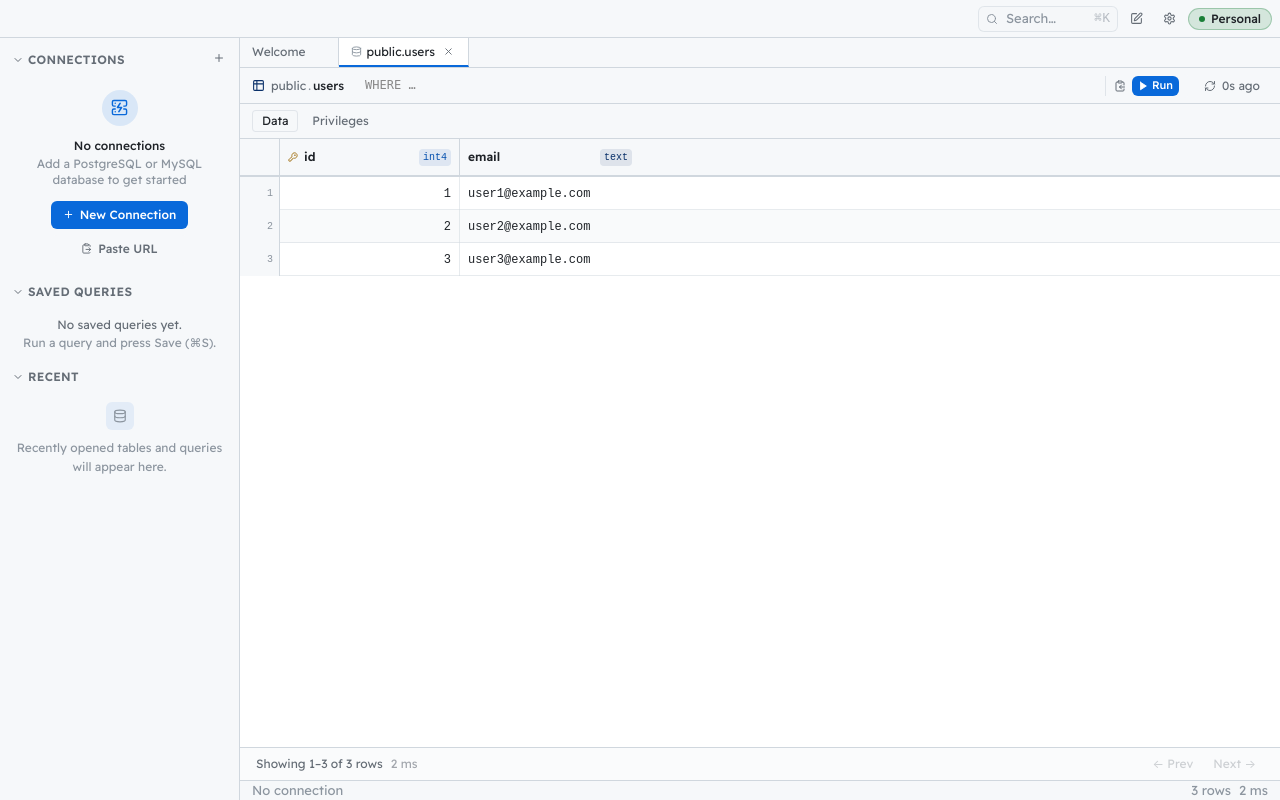
Scenario: the unsaved-edit guard › asks before a navigation that would drop the edit
This screenshot has width=1280, height=800.
expect the table is shown: met, box [240, 139, 1279, 276]
Double-click the cell "user1@example.com" at (529, 194), box [468, 186, 590, 200]
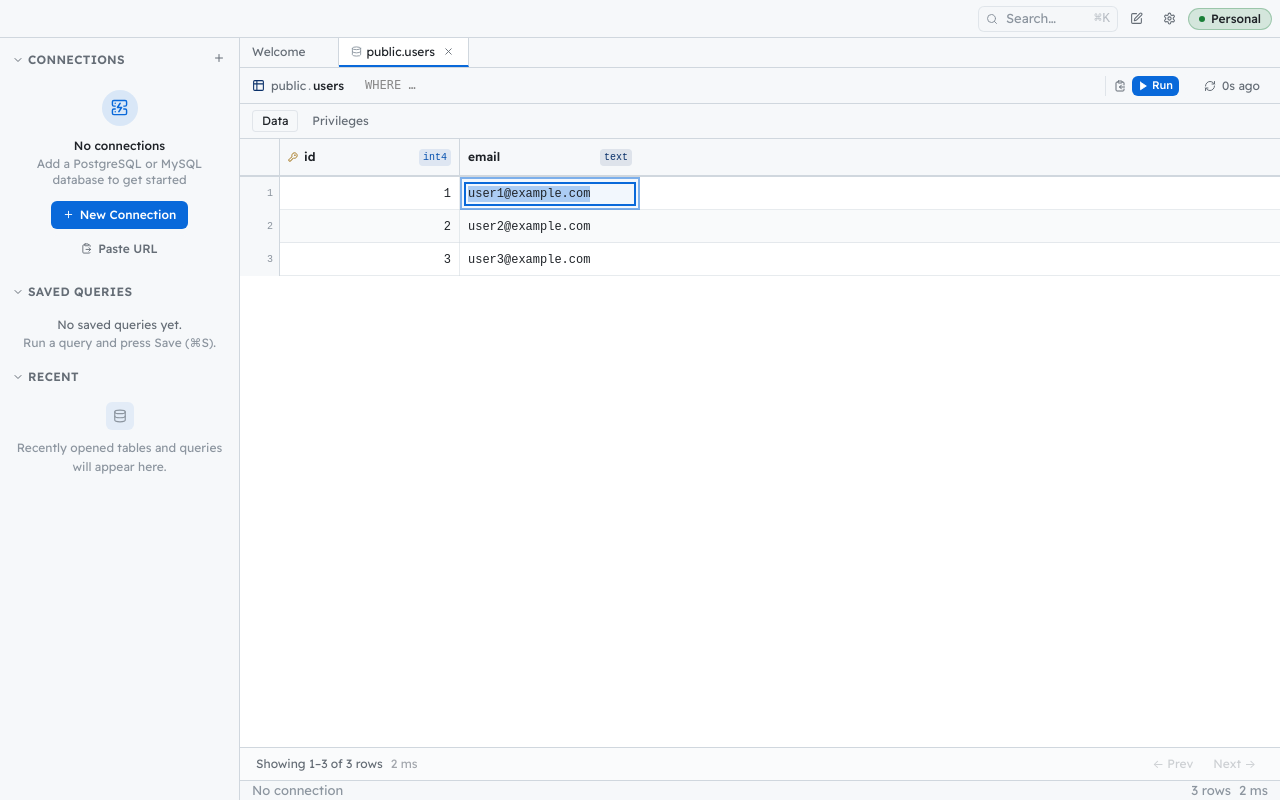
Replace the text in the field named "Edit cell value" with "ada@example.com" at (550, 194), box [468, 186, 632, 202]
Then press Enter
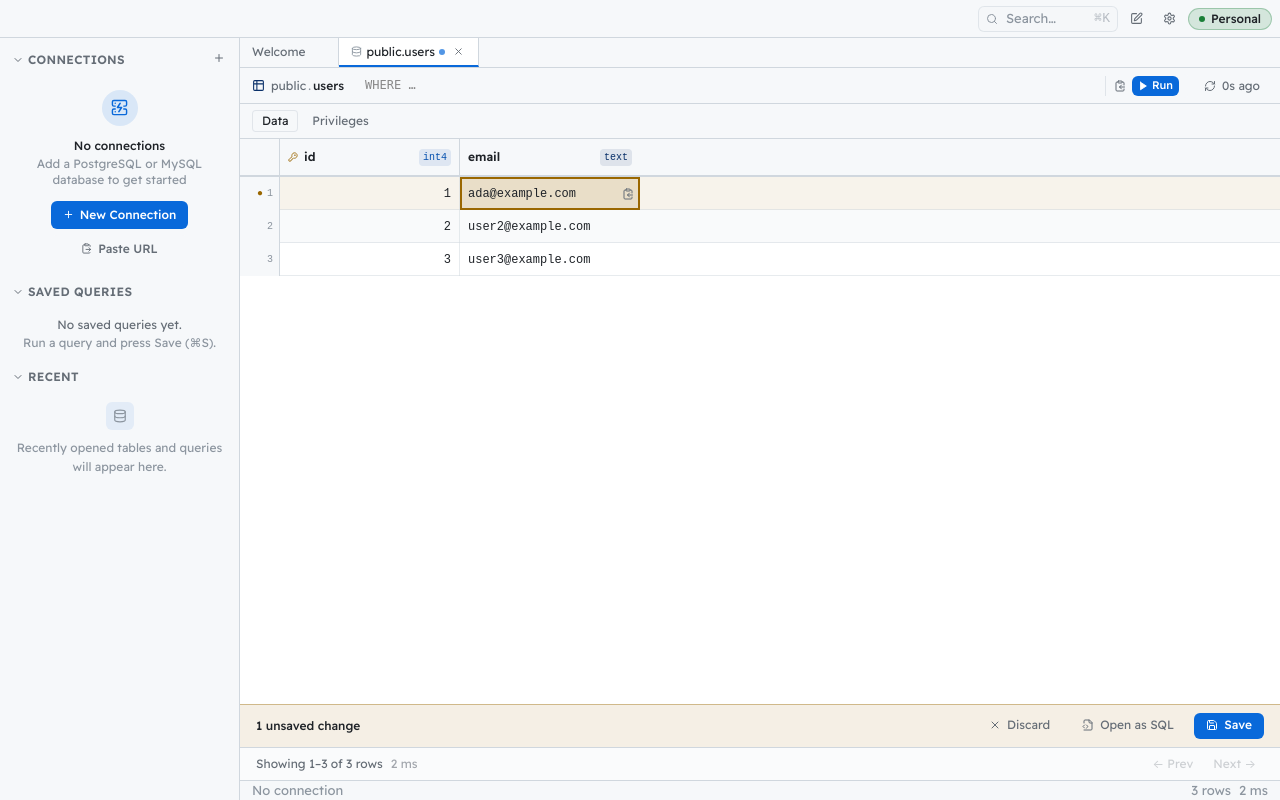
expect the text "1 unsaved change" is shown: met, box [256, 718, 360, 734]
Click the column heading titled "Filter by email" at (484, 156), box [468, 148, 632, 166]
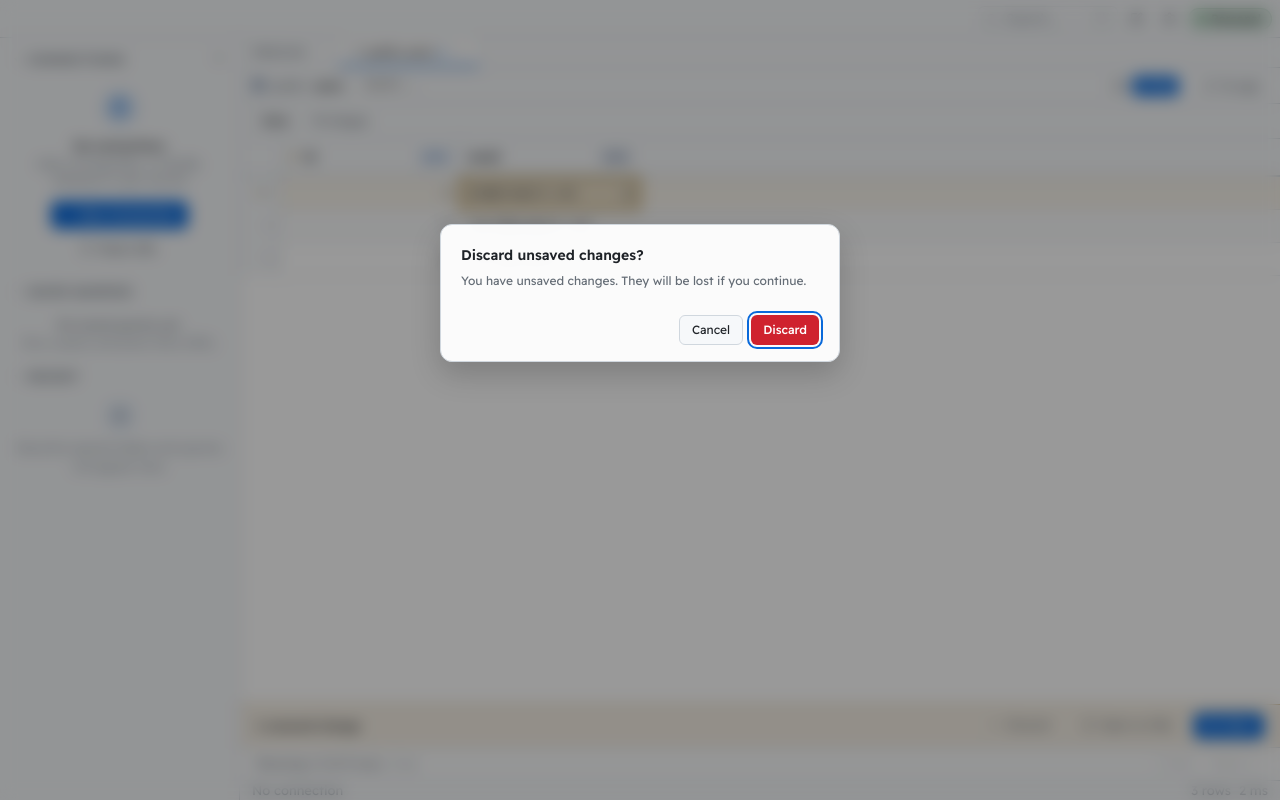
expect the heading "Discard unsaved changes?" is shown: met, box [461, 246, 644, 264]
